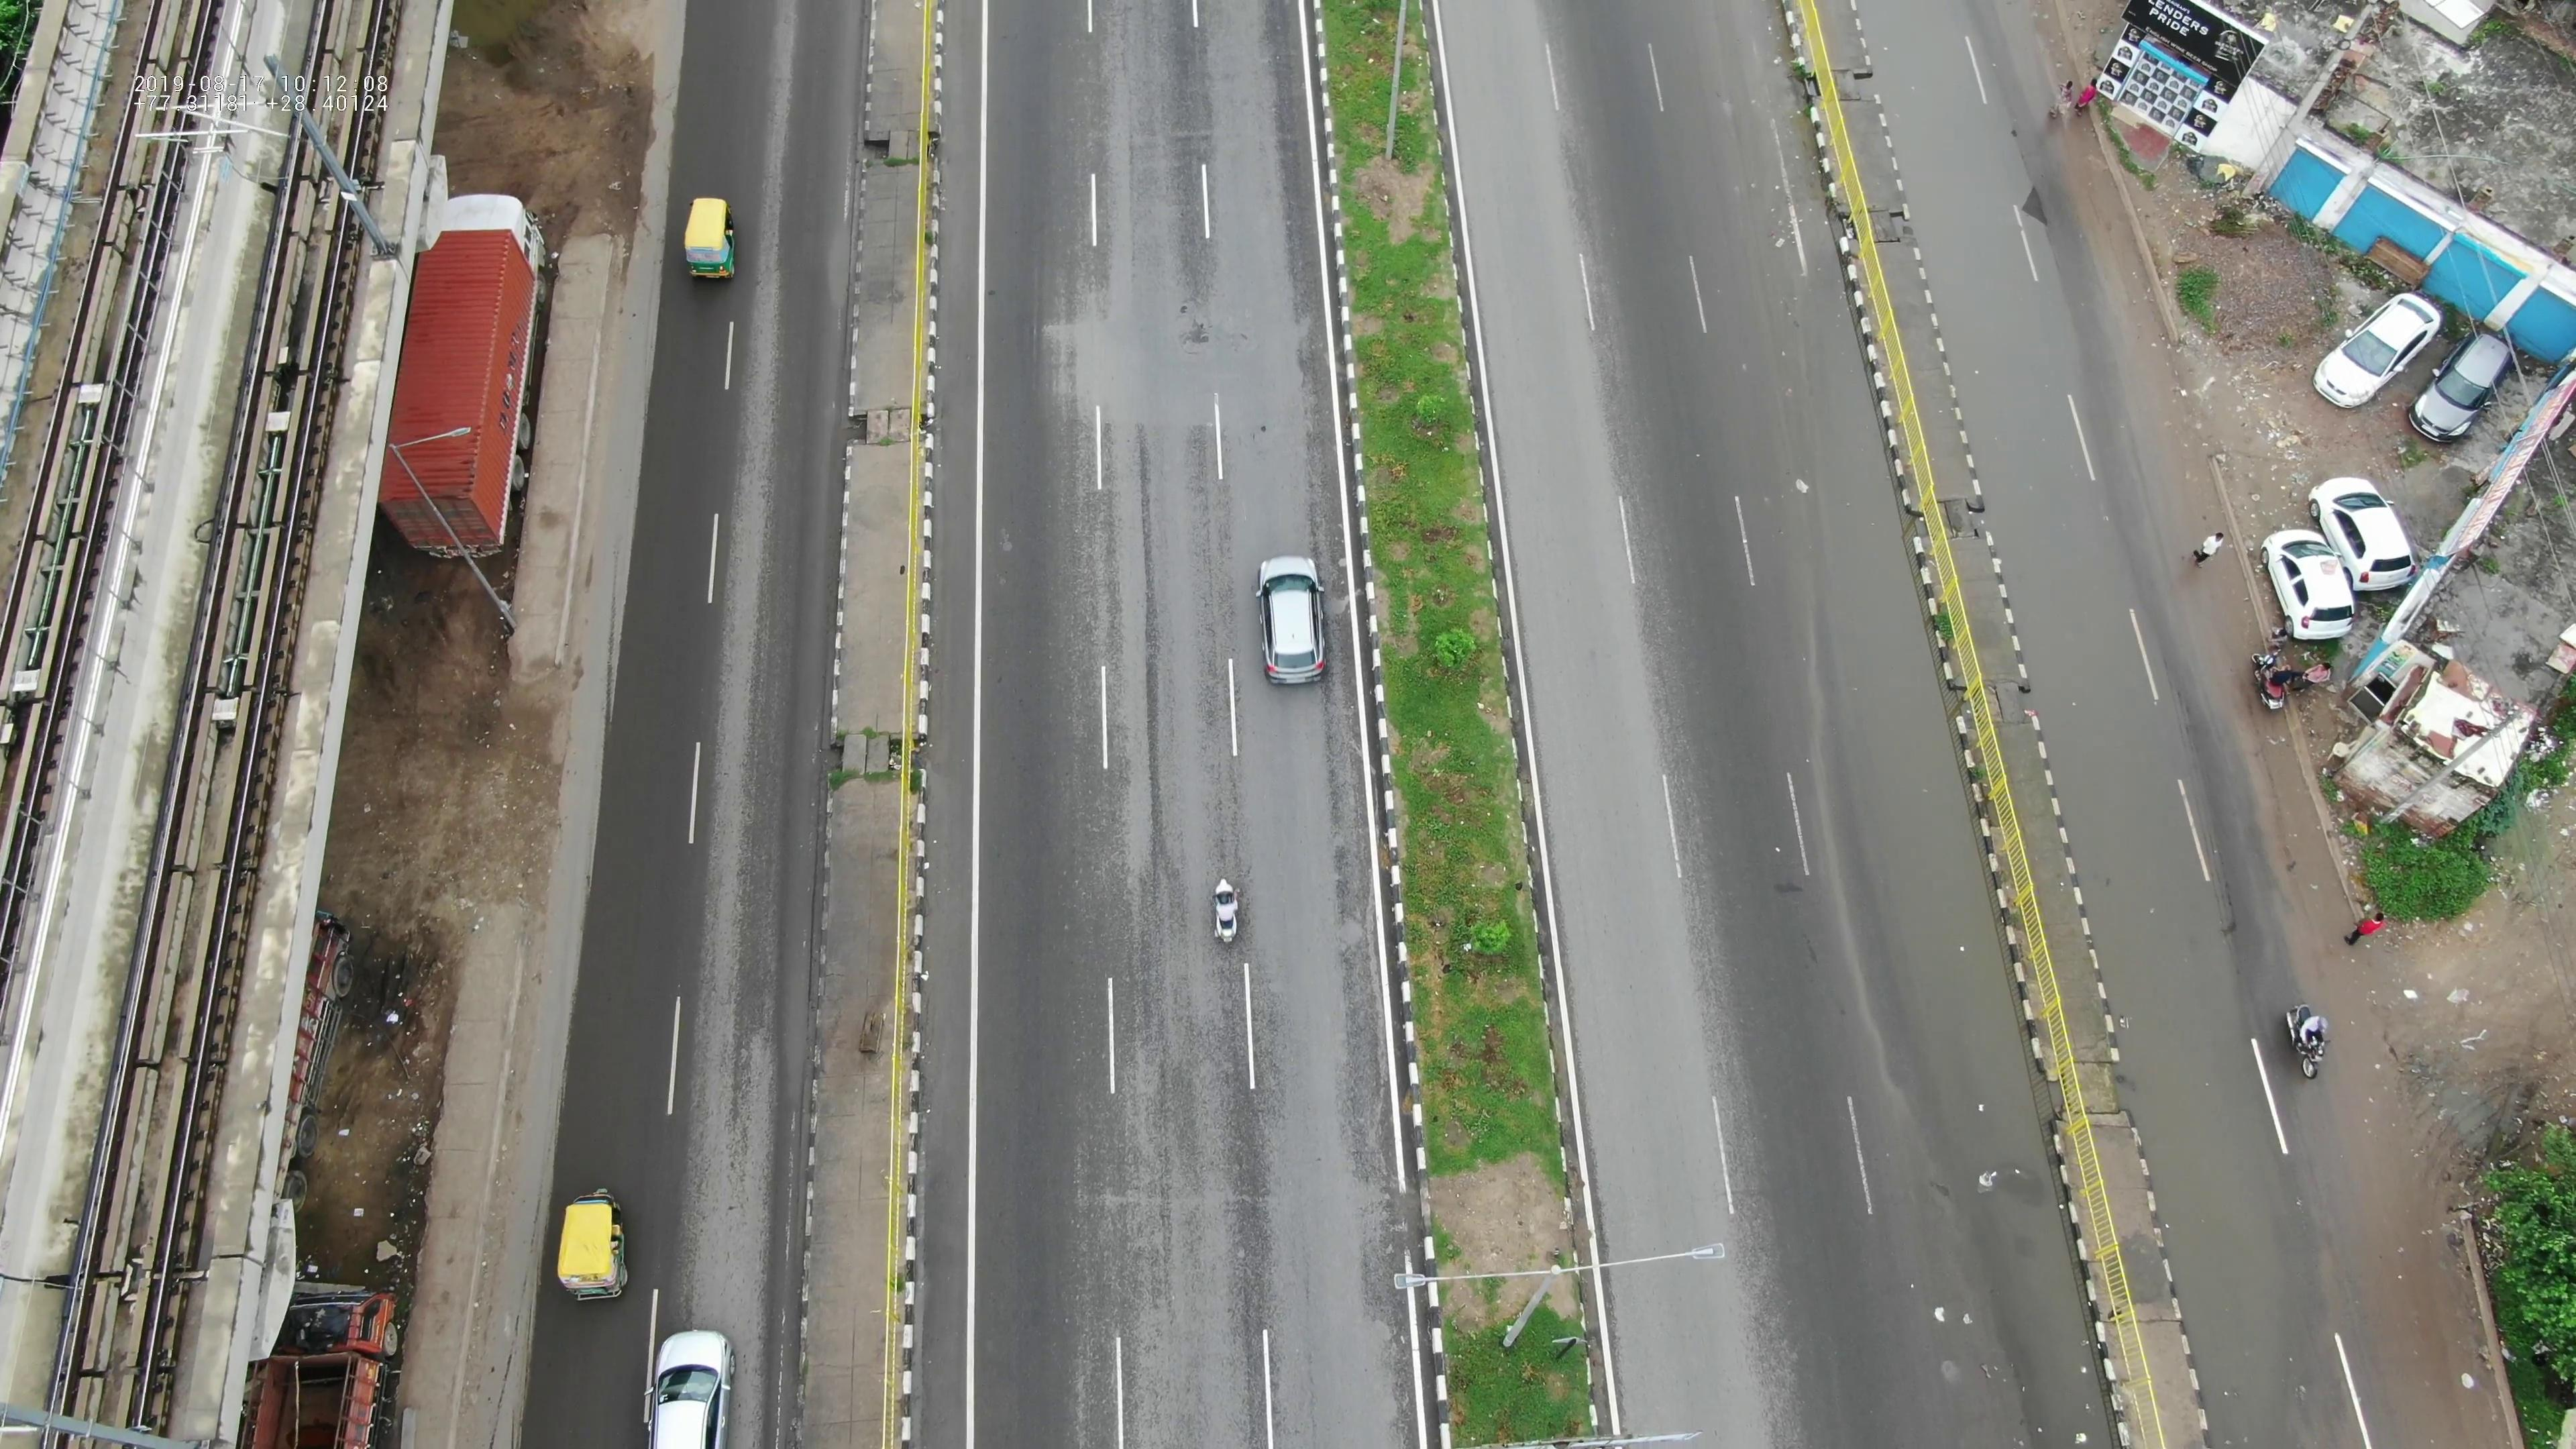Waterlogging: (1854, 835, 2065, 1300), (1778, 260, 1930, 761)
